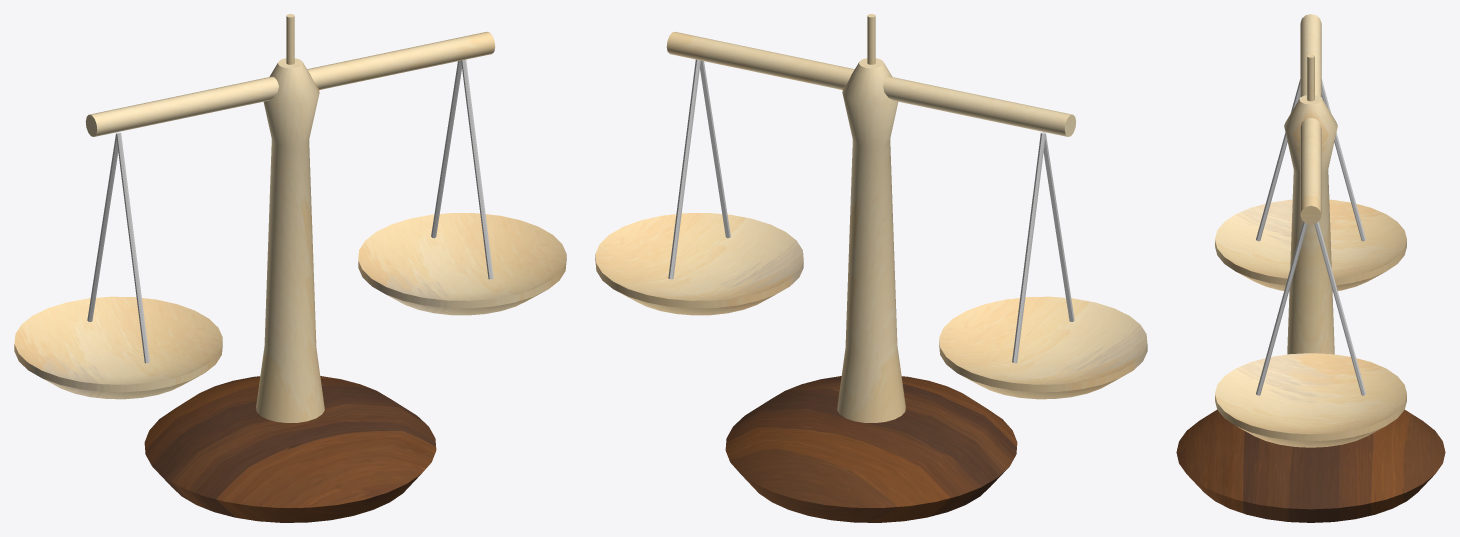
File: CM_AF01_BalanceScales.fbx
3 views of the same model, side by side, from view 1: azimuth 30°, elevation 25°; view 2: azimuth 150°, elevation 25°; view 3: azimuth 270°, elevation 25° (orthographic). The views are drawn at different scales.
Parts seen in each view (by area): view 1: CM_AF01_BalanceScales; view 2: CM_AF01_BalanceScales; view 3: CM_AF01_BalanceScales.
Boxes of the visible parts, box(x1,y1,x2,y2) form: CM_AF01_BalanceScales: box(14, 14, 566, 522); CM_AF01_BalanceScales: box(595, 14, 1147, 522); CM_AF01_BalanceScales: box(1176, 14, 1445, 522).
Bounding box in the file's own units: 0.58 × 0.48 × 0.28.
